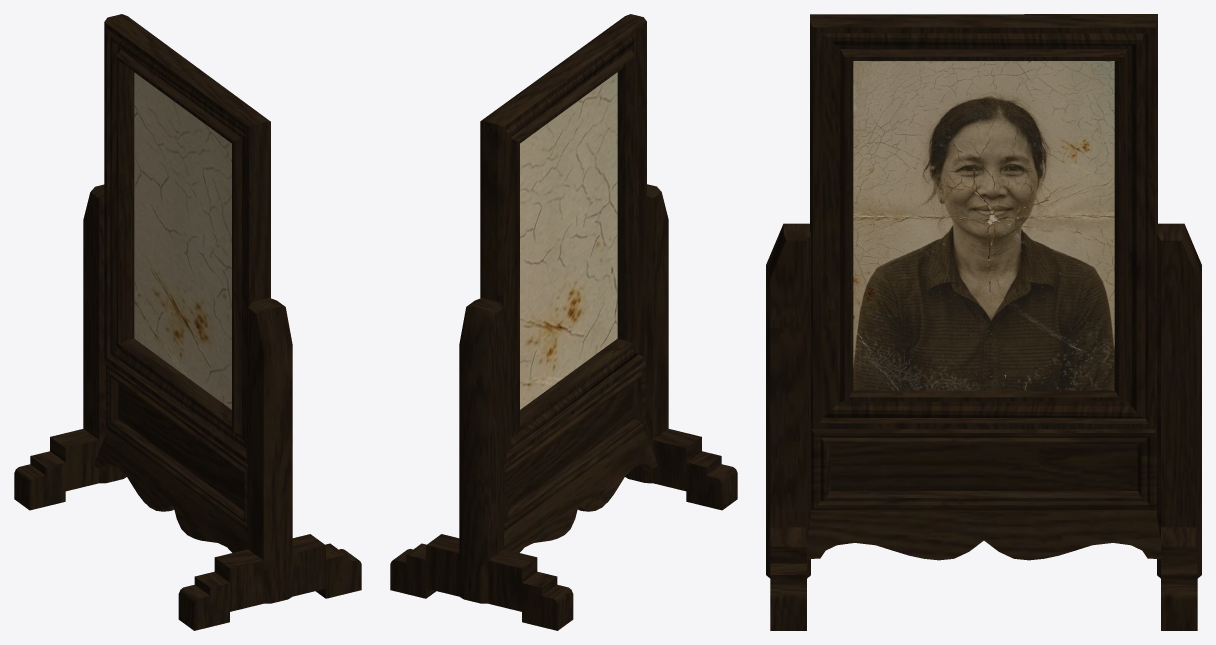
The model's file is AnhTho.glb.
3 renders of one model, left to right at view 1: azimuth 30°, elevation 25°; view 2: azimuth 150°, elevation 25°; view 3: azimuth 270°, elevation 25°, orthographic. The views are drawn at different scales.
Visible parts, largest first — view 1: polySurface2, polySurface1; view 2: polySurface2, polySurface1; view 3: polySurface2, polySurface1.
Part boxes in pixels (x1,y1,x2,y2): polySurface2: [14, 14, 361, 630]; polySurface1: [134, 72, 231, 409]; polySurface2: [390, 14, 737, 630]; polySurface1: [520, 72, 617, 409]; polySurface2: [766, 14, 1201, 630]; polySurface1: [853, 61, 1114, 390].
Bounding box in the file's own units: 0.416 × 1.13 × 0.7896.
Materials: 2 (2 with a texture image).
